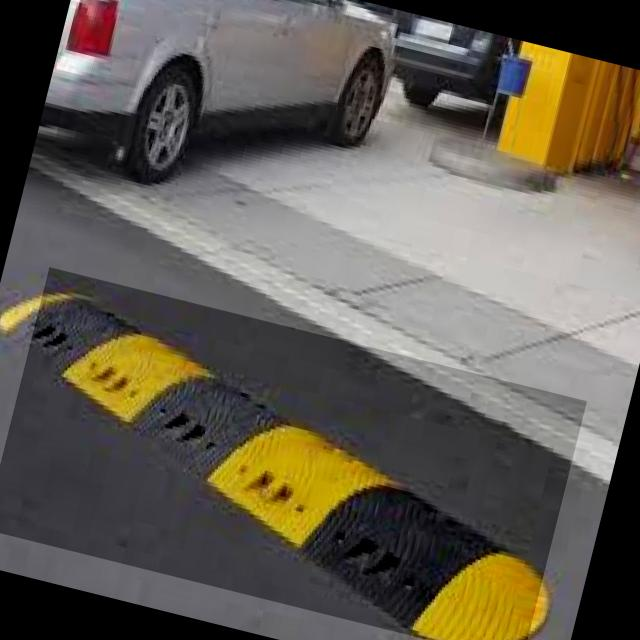bump: (0, 267, 586, 640)
